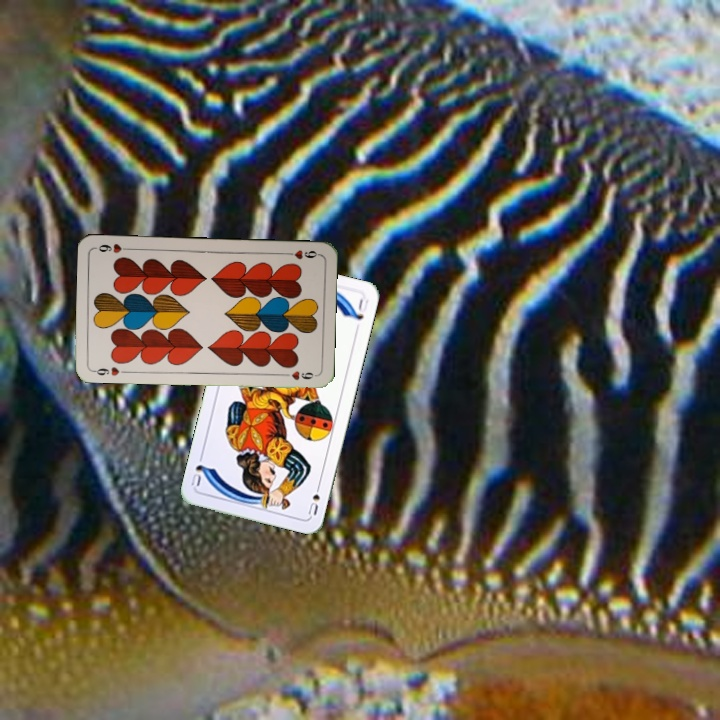H9: (281, 246, 321, 262), (89, 363, 121, 378)
SU: (304, 479, 323, 518)
